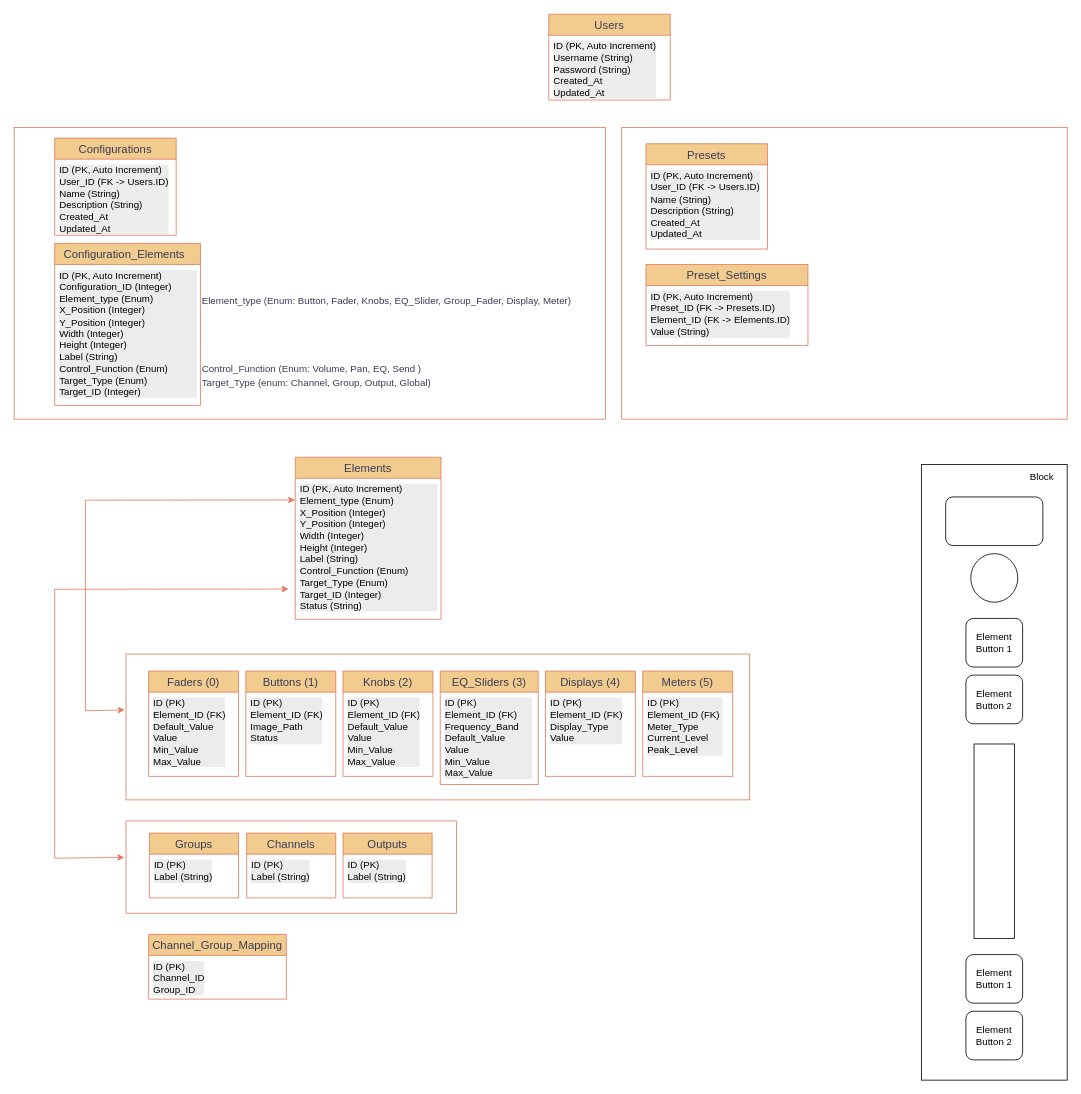
The diagram is 1081 pixels wide and 1094 high, and some of its shapes have lost their labels. Here are the shapes that lost their labels. From the top down, the centre of each, then its label:
At pixel 994 521: "Element Display".
At pixel 994 577: "Element knob".
At pixel 994 840: "Element Fader".
